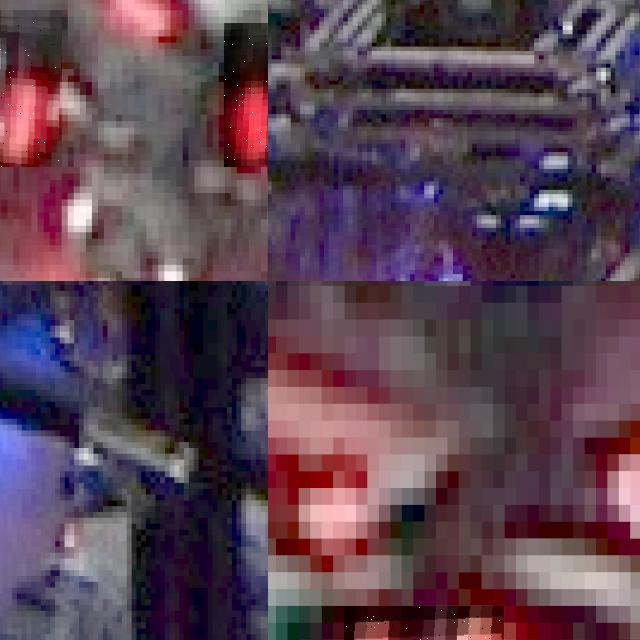R4: (0, 10, 61, 166), (224, 23, 268, 166), (344, 606, 504, 640)
